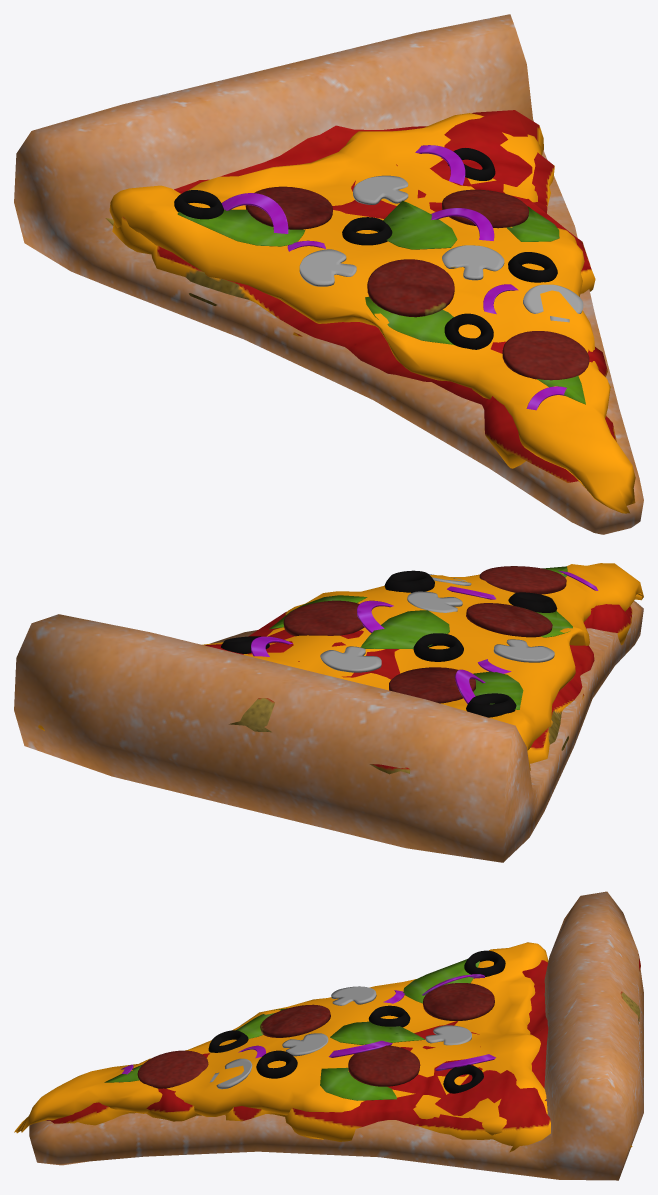
File: Pizza.glb
The picture shows the model from 3 angles, top to bottom: view 1: azimuth 30°, elevation 25°; view 2: azimuth 150°, elevation 25°; view 3: azimuth 270°, elevation 25°; orthographic projection. The views are drawn at different scales.
Visible parts, largest first — view 1: Crust, Cheese.001, Sauce.001, Pepperoni4.002, Pepperoni2.001, Basil1.001, Pepperoni4.001, Pepperoni3.001, Basil4.001, Basil2.001, Mushroom4.001, Mushroom1.001 (+11 smaller); view 2: Crust, Cheese.001, Sauce.001, Pepperoni3.001, Pepperoni4.002, Basil1.001, Pepperoni4.001, Pepperoni2.001, Mushroom2.001, Olive1.001, Basil4.001, Mushroom4.001 (+9 smaller); view 3: Crust, Cheese.001, Sauce.001, Pepperoni3.001, Pepperoni4.001, Pepperoni2.001, Pepperoni4.002, Basil3.001, Basil1.001, Basil4.001, Olive2.001, Olive5.001 (+9 smaller).
Part boxes in pixels (<box>): Crust: <box>14,14,643,534</box>; Cheese.001: <box>105,113,635,513</box>; Sauce.001: <box>112,110,616,482</box>; Pepperoni4.002: <box>367,259,454,317</box>; Pepperoni2.001: <box>502,331,589,380</box>; Basil1.001: <box>377,200,457,249</box>; Pepperoni4.001: <box>245,186,332,229</box>; Pepperoni3.001: <box>442,189,528,228</box>; Basil4.001: <box>177,209,305,246</box>; Basil2.001: <box>365,296,454,345</box>; Mushroom4.001: <box>299,249,356,286</box>; Mushroom1.001: <box>442,245,504,280</box>; Crust: <box>14,601,643,862</box>; Cheese.001: <box>202,563,643,750</box>; Sauce.001: <box>38,604,632,774</box>; Pepperoni3.001: <box>283,600,364,636</box>; Pepperoni4.002: <box>466,603,552,637</box>; Basil1.001: <box>360,610,449,649</box>; Pepperoni4.001: <box>389,667,475,703</box>; Pepperoni2.001: <box>479,566,566,594</box>; Mushroom2.001: <box>320,646,381,672</box>; Olive1.001: <box>413,633,463,661</box>; Basil4.001: <box>473,671,523,709</box>; Mushroom4.001: <box>493,639,554,662</box>; Crust: <box>29,891,643,1180</box>; Cheese.001: <box>14,942,548,1135</box>; Sauce.001: <box>46,954,640,1152</box>; Pepperoni3.001: <box>348,1045,420,1086</box>; Pepperoni4.001: <box>423,983,494,1020</box>; Pepperoni2.001: <box>137,1050,208,1088</box>; Pepperoni4.002: <box>260,1004,330,1037</box>; Basil3.001: <box>320,1067,396,1100</box>; Basil1.001: <box>330,1021,424,1044</box>; Basil4.001: <box>403,959,479,1003</box>; Olive2.001: <box>256,1050,297,1078</box>; Olive5.001: <box>464,950,505,976</box>.
Size of the model in its own units: 4.63 by 1.9 by 6.27.
2 materials, 2 textured.
